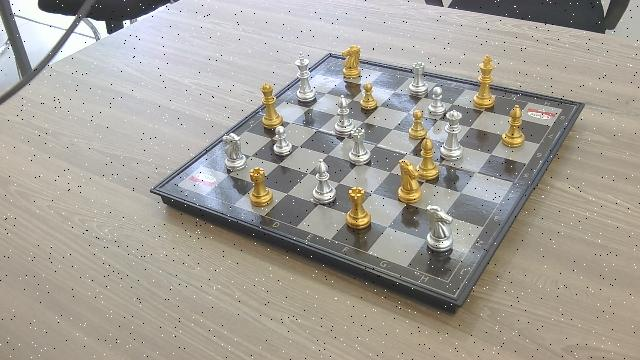black_bishop: (418, 136, 442, 181), (502, 103, 526, 148)
black_king: (471, 53, 497, 112)
black_knight: (397, 159, 425, 204), (342, 45, 363, 80)
black_pawn: (408, 108, 429, 140), (360, 81, 378, 111)
black_queen: (260, 82, 284, 129)
black_rook: (345, 186, 374, 231), (249, 166, 274, 208)
white_bishop: (312, 159, 338, 205), (335, 95, 354, 135)
white_king: (295, 51, 317, 102)
white_knight: (423, 203, 457, 254), (220, 132, 249, 171)
white_pawn: (272, 125, 295, 157), (427, 86, 447, 114)
white_queen: (441, 107, 465, 159)
white_rook: (348, 128, 373, 166), (410, 61, 430, 96)
